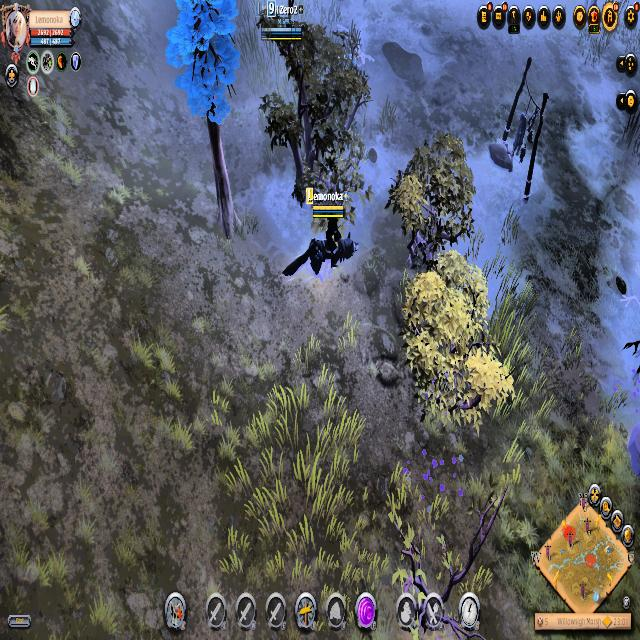wood tier 4: (166, 0, 241, 129)
